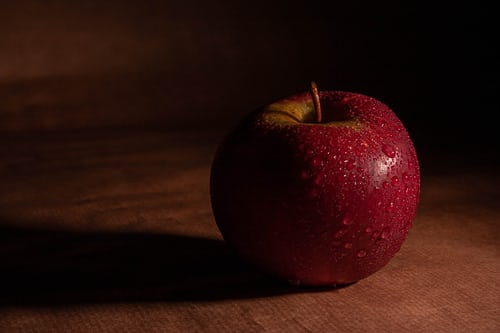apple: (207, 81, 419, 289)
